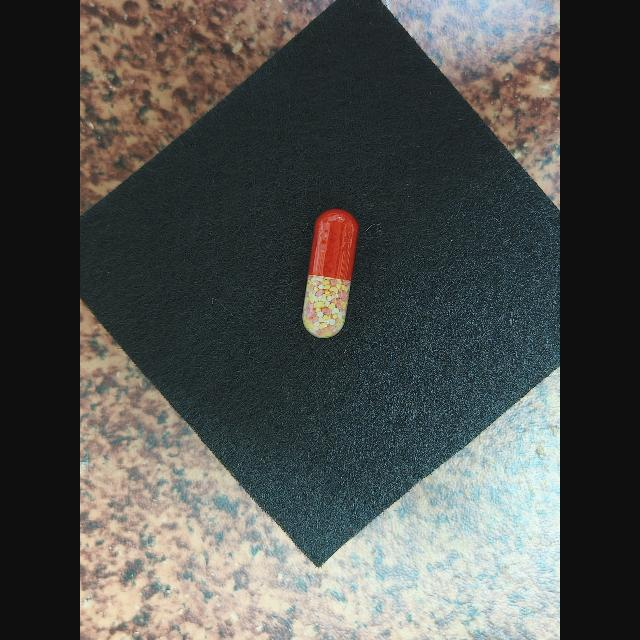Intact Capsule: (302, 209, 358, 339)
